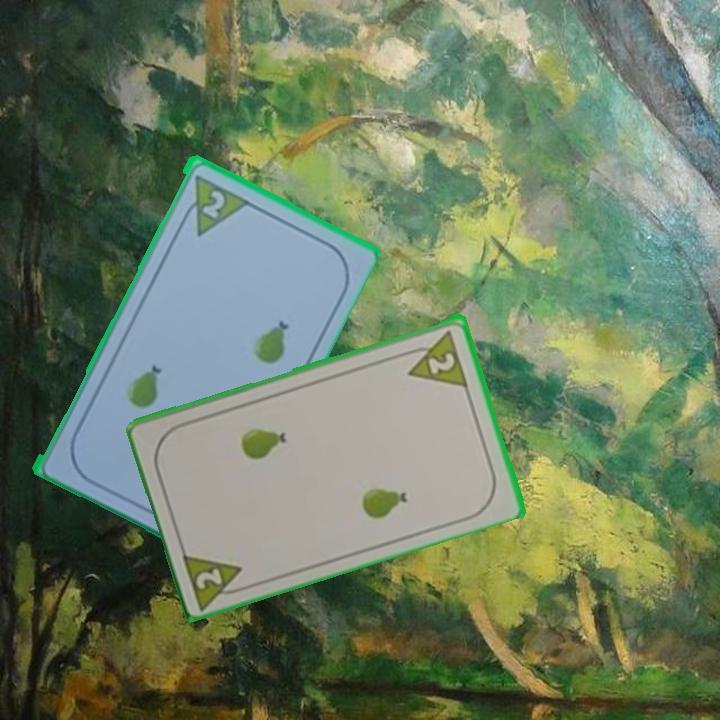2p: (178, 546, 253, 610), (399, 326, 471, 389), (198, 186, 228, 221)
